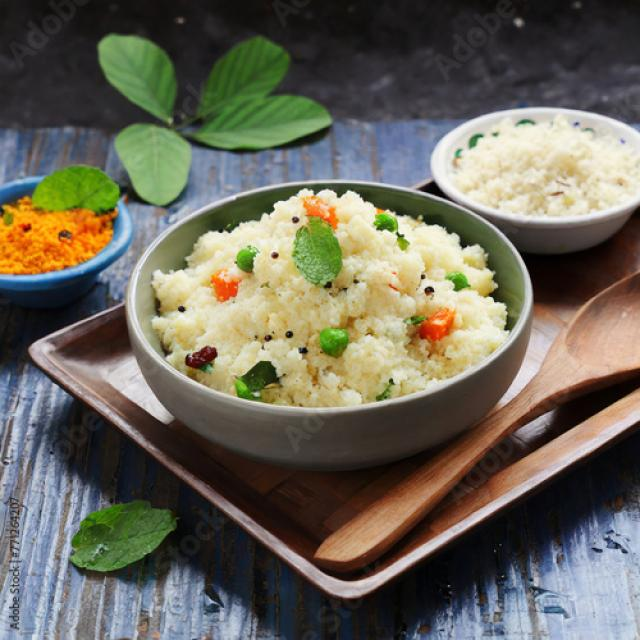UPMA: (138, 194, 503, 399)
